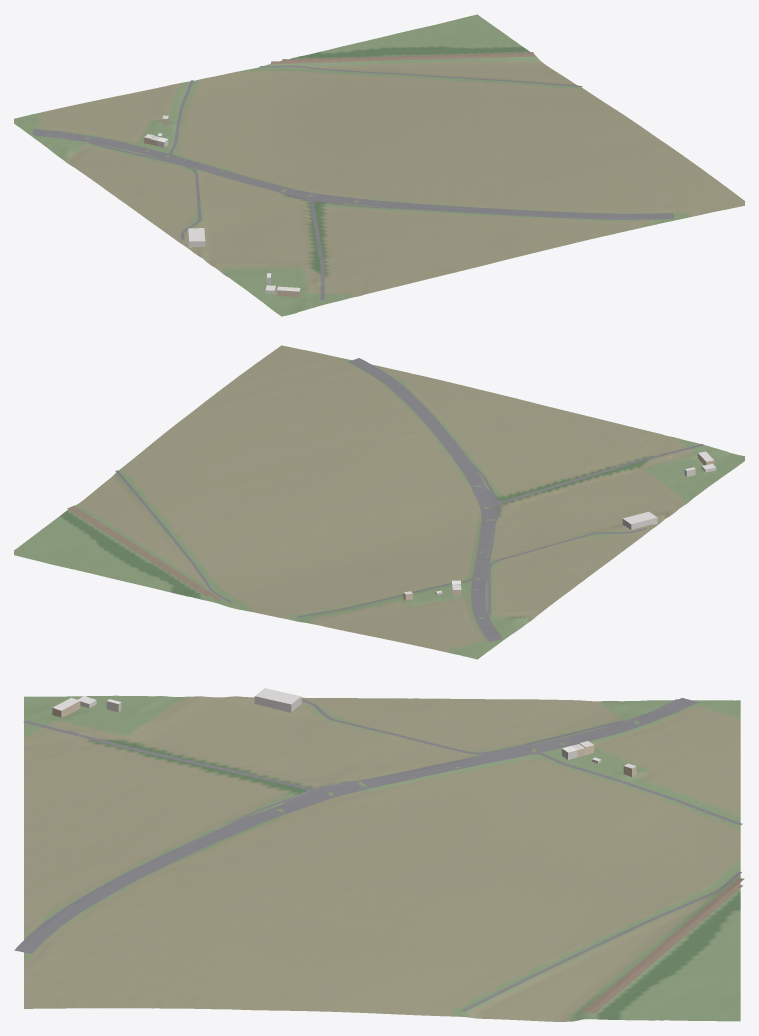
3 renders of one model, top to bottom at view 1: azimuth 30°, elevation 25°; view 2: azimuth 150°, elevation 25°; view 3: azimuth 270°, elevation 25°, orthographic. The views are drawn at different scales.
Visible parts, largest first — view 1: prim0, prim2, prim3, prim1; view 2: prim0, prim2, prim3, prim1; view 3: prim0, prim2, prim1, prim3.
Part boxes in pixels (left/top/right/bottom): prim0: left=14, top=14, right=744, bottom=316; prim2: left=32, top=65, right=674, bottom=299; prim3: left=271, top=52, right=534, bottom=64; prim1: left=144, top=115, right=300, bottom=296; prim0: left=14, top=345, right=744, bottom=659; prim2: left=115, top=358, right=704, bottom=641; prim3: left=67, top=506, right=221, bottom=599; prim1: left=403, top=451, right=716, bottom=600; prim0: left=24, top=695, right=740, bottom=1021; prim2: left=14, top=698, right=742, bottom=1011; prim1: left=52, top=688, right=636, bottom=777; prim3: left=583, top=878, right=744, bottom=1013.
Bounding box in the file's own units: 518 × 24.6 × 522.
